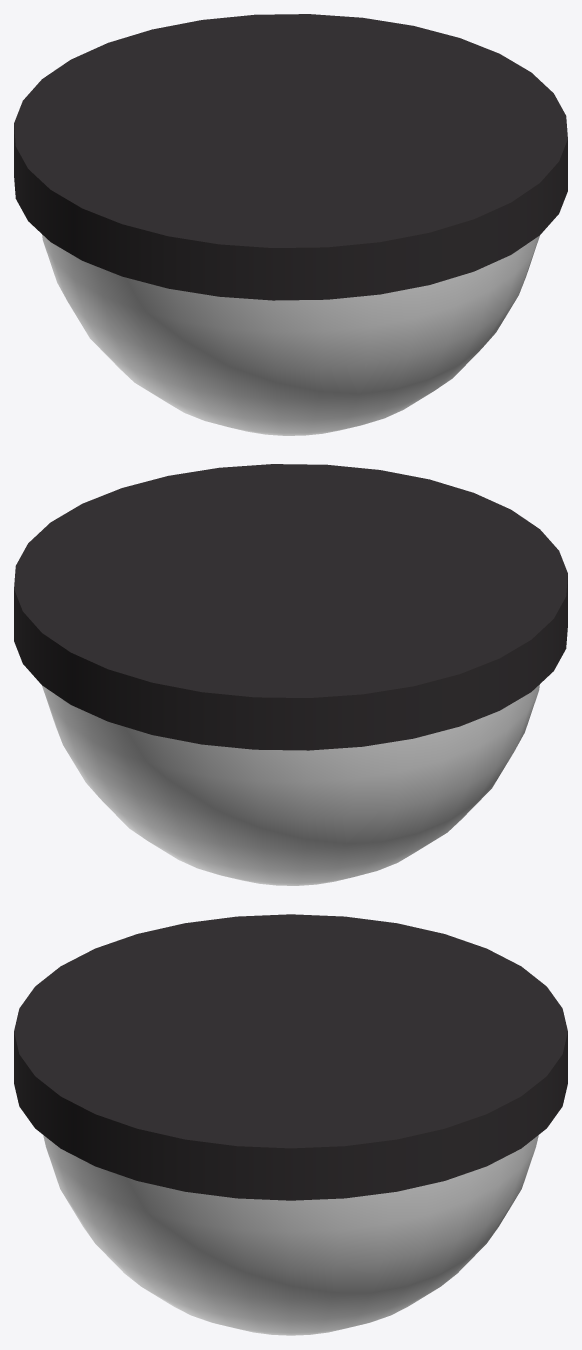
The model's file is IndoorLight1.fbx.
3 renders of one model, top to bottom at view 1: azimuth 30°, elevation 25°; view 2: azimuth 150°, elevation 25°; view 3: azimuth 270°, elevation 25°, orthographic.
Parts seen in each view (by area): view 1: CelingLight; view 2: CelingLight; view 3: CelingLight.
Boxes of the visible parts, <box> form: CelingLight: <box>14,14,567,435</box>; CelingLight: <box>14,464,567,885</box>; CelingLight: <box>14,914,567,1335</box>.
Size of the model in its own units: 61 by 34.1 by 61.
Materials: 1 (1 with a texture image).
